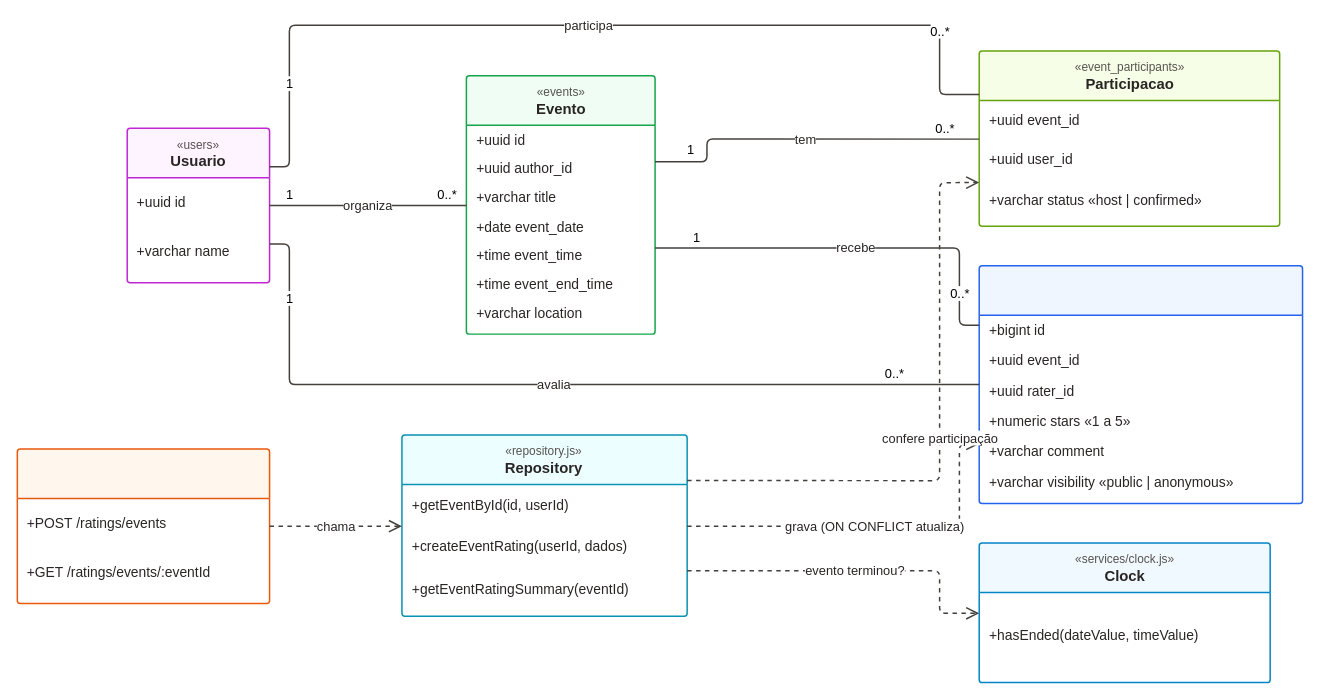
This 1321x700 diagram has some shape labels left out. The shapes that lost their labels are listed below. From the top down, each one's box as (x1, y1, x2, y2) in pixels, then its label:
(978, 265, 1303, 504): «event_ratings» AvaliacaoEvento
(16, 448, 270, 604): «app.js» RatingRoutes
